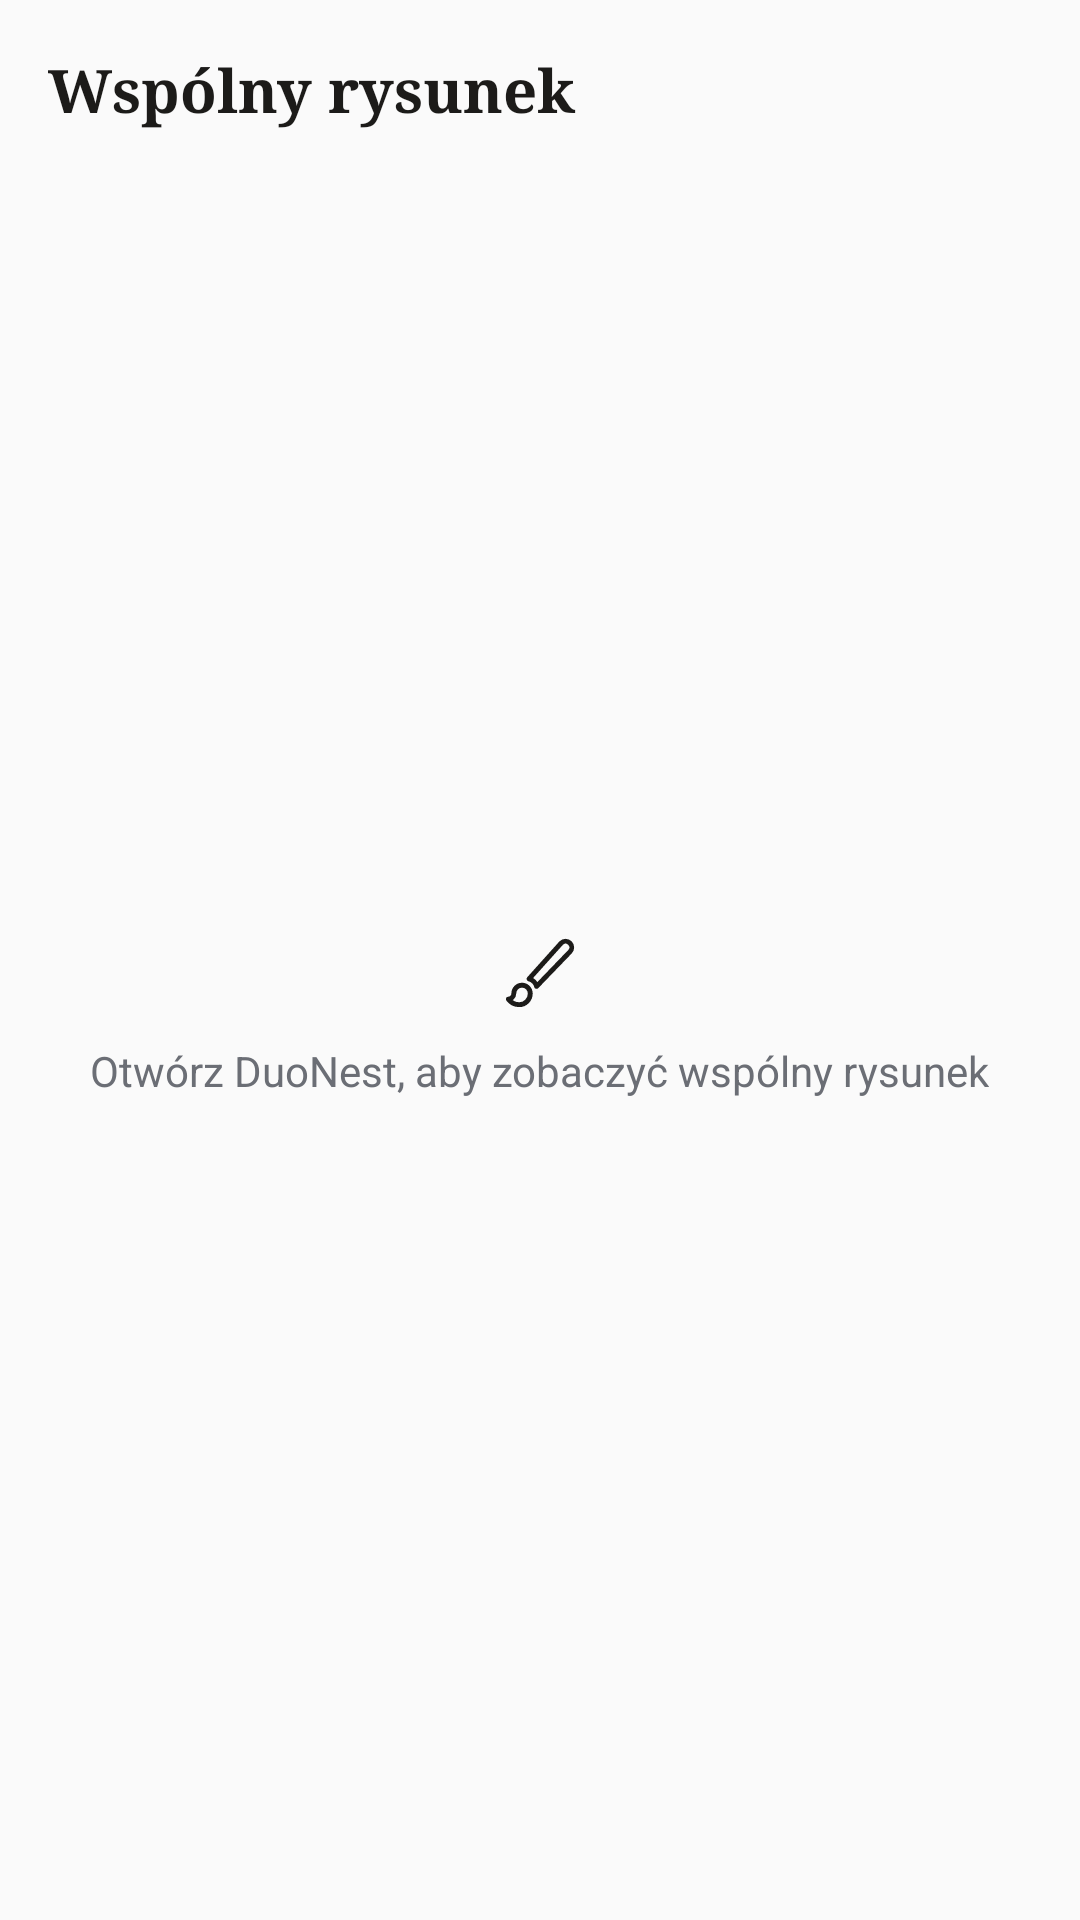

Where to tap for icons on this 1080×1920 app screen, as point (x, y):
widget brush: point (540, 972)
